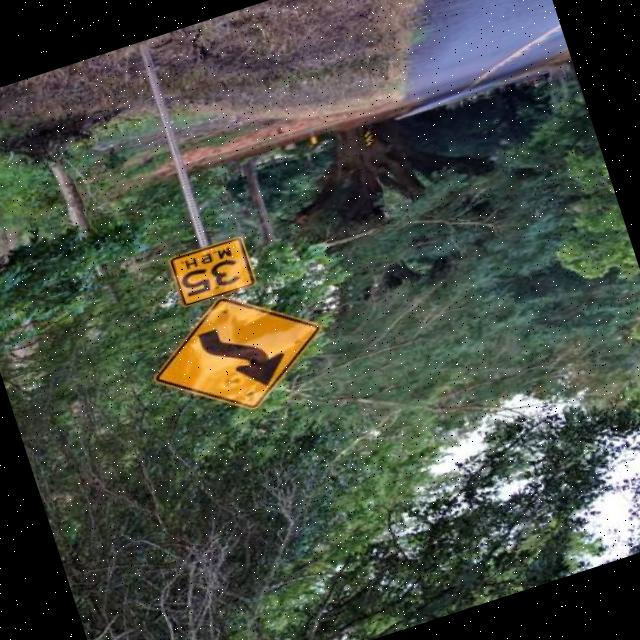left_sharp_curve: (128, 266, 362, 448)
